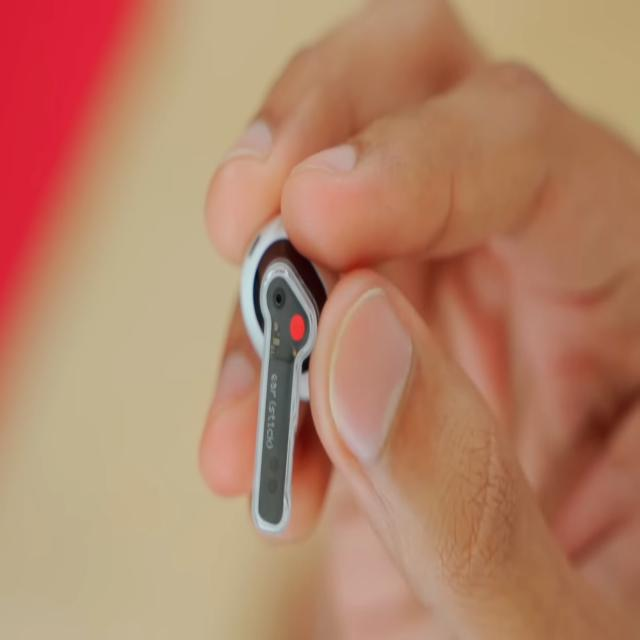airpods: (239, 214, 342, 540)
